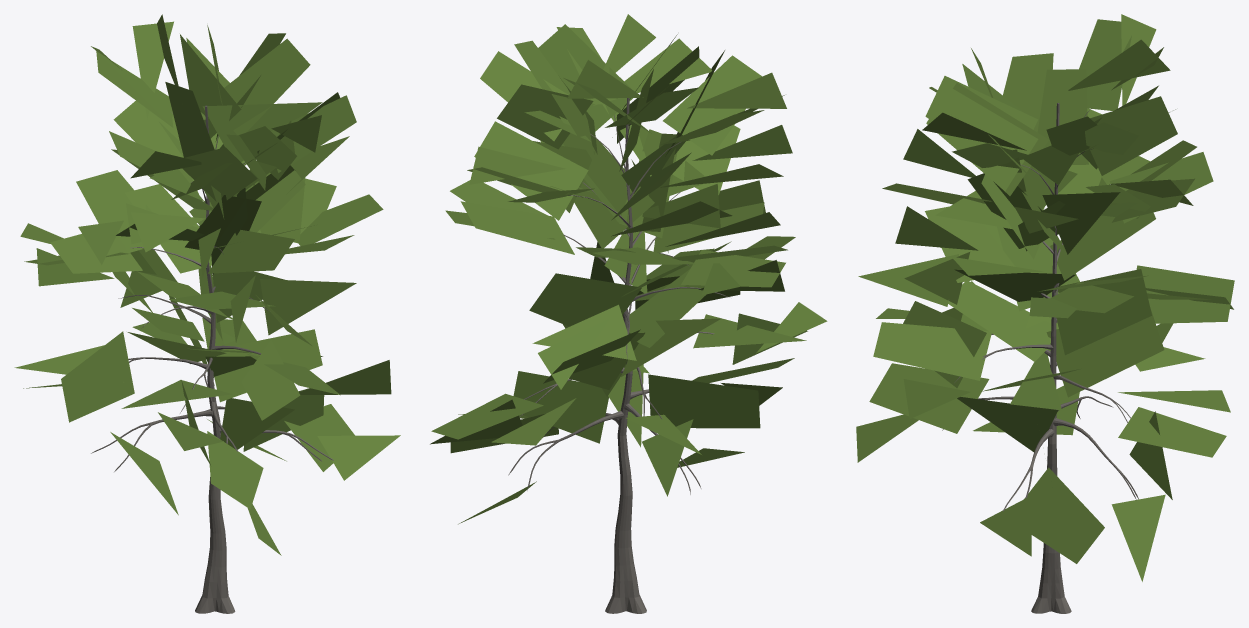
Rendered from tall-tree.lod2.glb.
3 views of the same model, side by side, from view 1: azimuth 30°, elevation 25°; view 2: azimuth 150°, elevation 25°; view 3: azimuth 270°, elevation 25° (orthographic). The views are drawn at different scales.
Parts seen in each view (by area): view 1: _2_TP23_Trunk_0; view 2: _2_TP23_Trunk_0; view 3: _2_TP23_Trunk_0.
Boxes of the visible parts, bbox=[...] form: _2_TP23_Trunk_0: bbox=[14, 14, 400, 613]; _2_TP23_Trunk_0: bbox=[430, 14, 827, 613]; _2_TP23_Trunk_0: bbox=[856, 14, 1234, 613].
Size of the model in its own units: 16.51 by 26 by 15.8.
